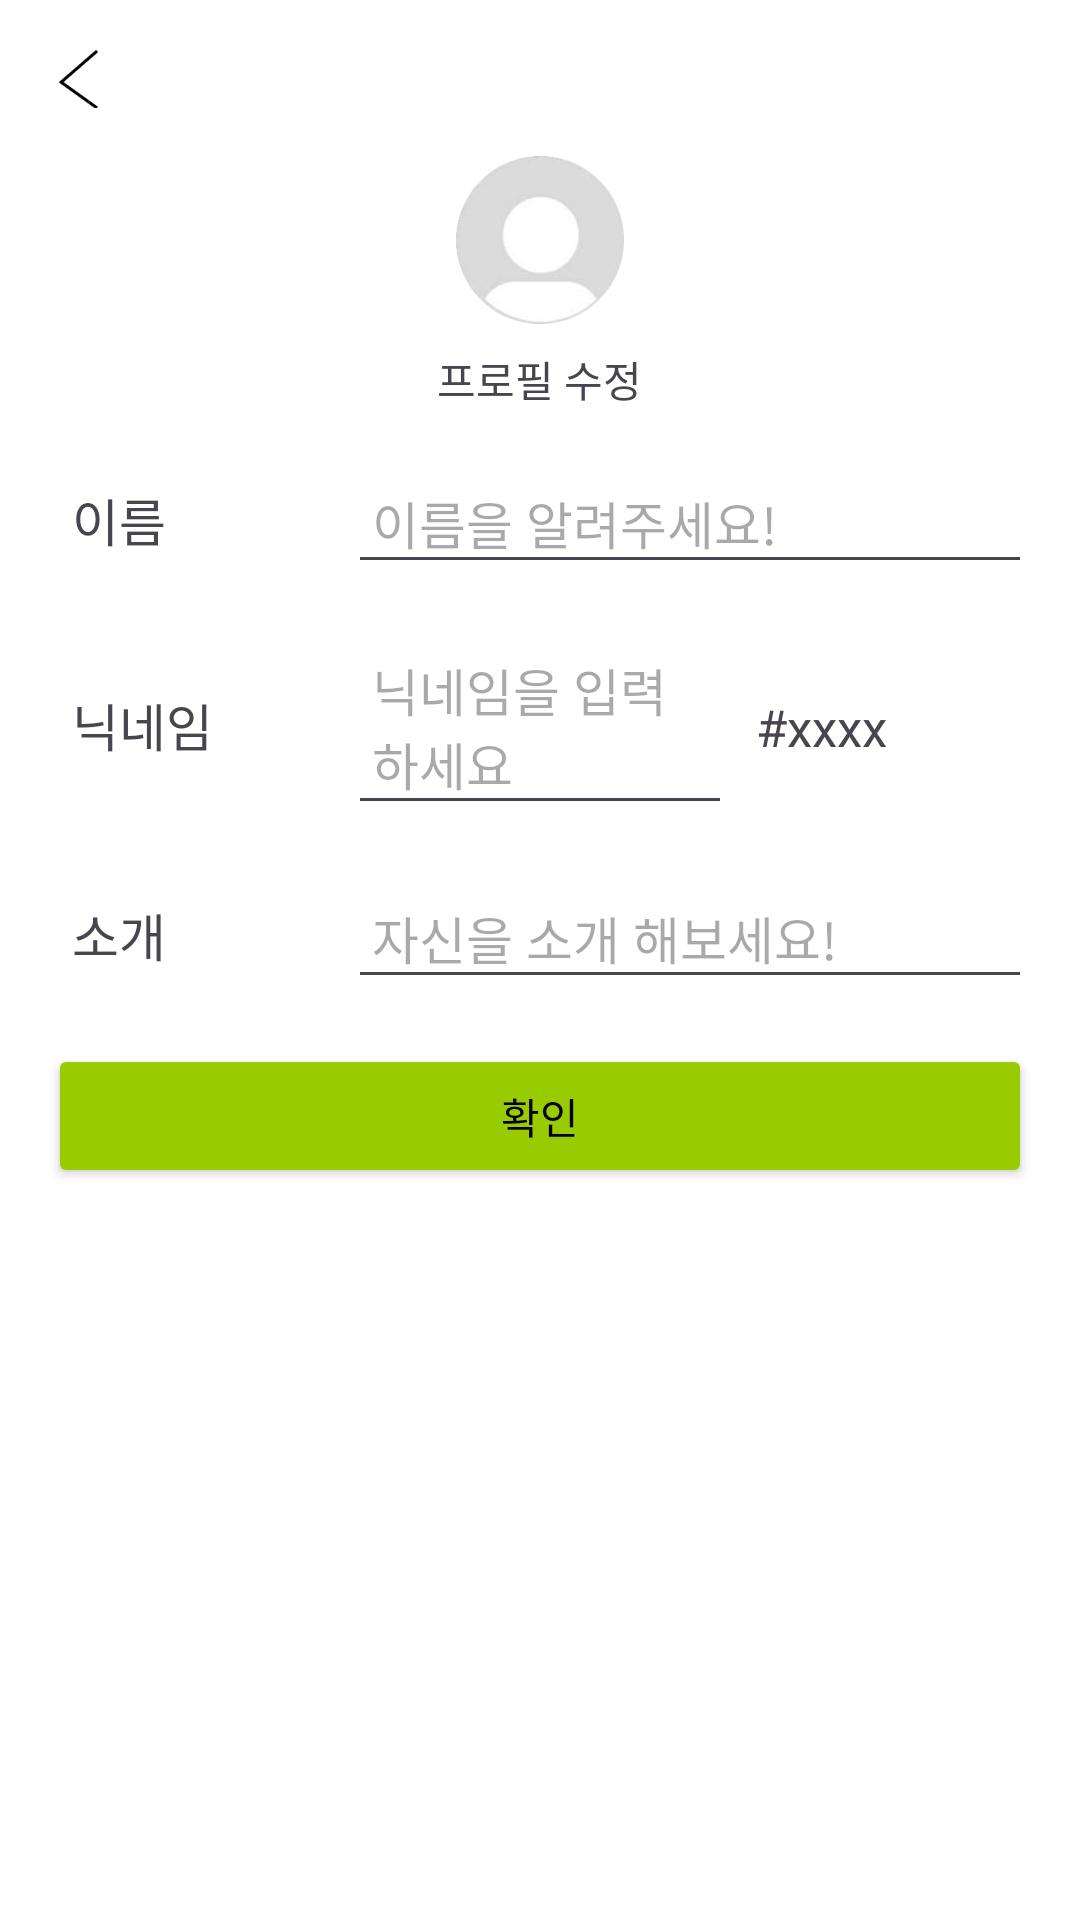

Icon bounding boxes for this 1080×1920 phone screenshot, format (x1, y1, x2, y2):
Back: (59, 50, 98, 108)
user: (456, 156, 624, 324)
